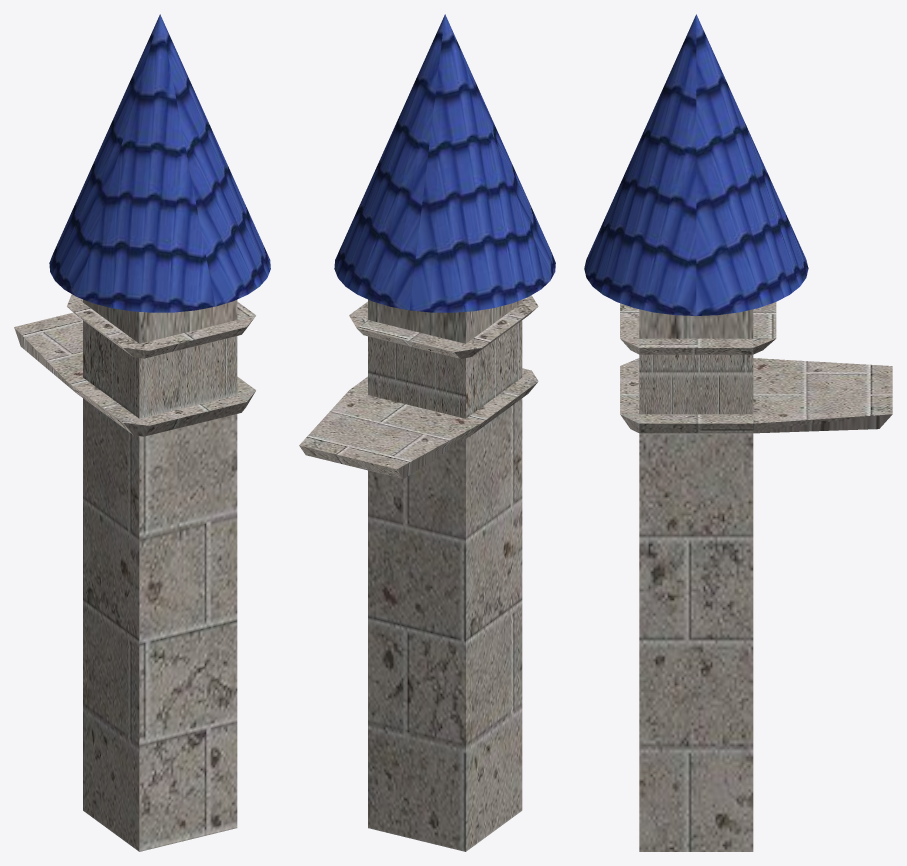
File: tower.fbx
3 views of the same model, side by side, from view 1: azimuth 30°, elevation 25°; view 2: azimuth 150°, elevation 25°; view 3: azimuth 270°, elevation 25° (orthographic).
Visible parts, largest first — view 1: Cube, Cone; view 2: Cube, Cone; view 3: Cube, Cone.
Part boxes in pixels (bbox=[...]): Cube: bbox=[14, 294, 255, 851]; Cone: bbox=[49, 14, 270, 312]; Cube: bbox=[299, 295, 538, 851]; Cone: bbox=[334, 14, 555, 312]; Cube: bbox=[620, 302, 892, 851]; Cone: bbox=[584, 14, 808, 315].
Bounding box in the file's own units: 1122 × 4493 × 1544.
